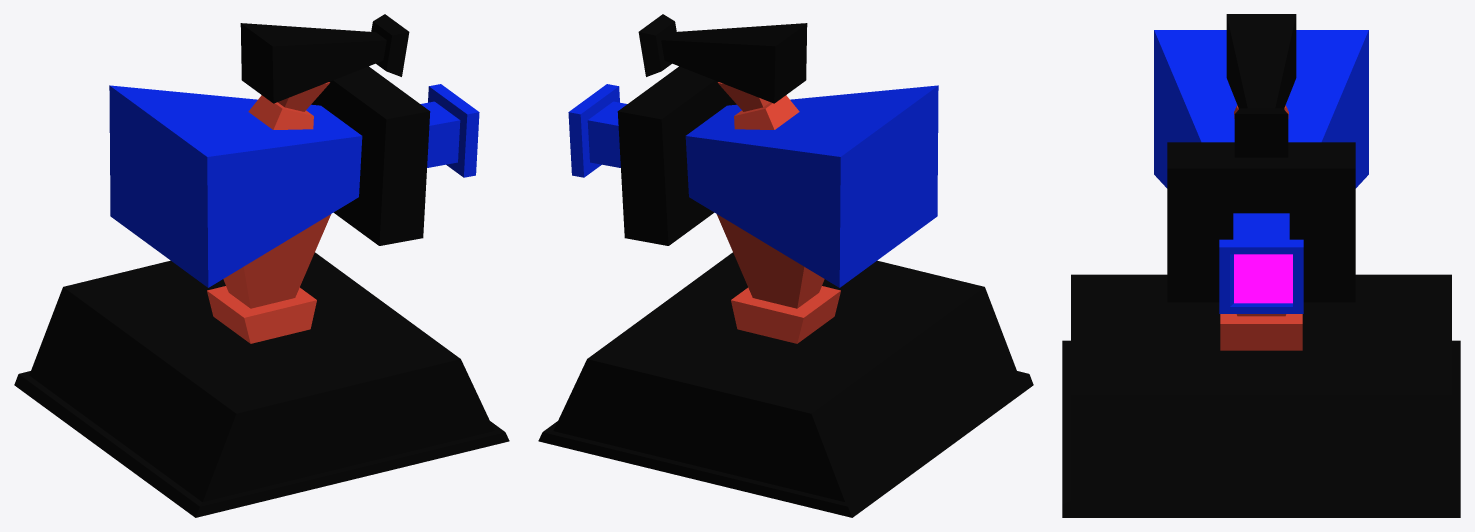
File: Tourelle.fbx
3 views of the same model, side by side, from view 1: azimuth 30°, elevation 25°; view 2: azimuth 150°, elevation 25°; view 3: azimuth 270°, elevation 25° (orthographic). The views are drawn at different scales.
Visible parts, largest first — view 1: Tourelle, Cube.031, Cube.033, Cube.030, Cube.032; view 2: Tourelle, Cube.031, Cube.033, Cube.030, Cube.032; view 3: Tourelle, Cube.031, Cube.033, Cube.030.
Boxes of the visible parts, x1=… form: Tourelle: x1=14, y1=252, x2=509, y2=517; Cube.031: x1=109, y1=66, x2=479, y2=287; Cube.033: x1=240, y1=14, x2=409, y2=103; Cube.030: x1=207, y1=214, x2=331, y2=343; Cube.032: x1=248, y1=82, x2=329, y2=129; Tourelle: x1=538, y1=252, x2=1033, y2=517; Cube.031: x1=568, y1=66, x2=938, y2=287; Cube.033: x1=638, y1=14, x2=807, y2=103; Cube.030: x1=716, y1=214, x2=840, y2=343; Cube.032: x1=718, y1=82, x2=799, y2=129; Tourelle: x1=1062, y1=274, x2=1460, y2=517; Cube.031: x1=1154, y1=30, x2=1368, y2=313; Cube.033: x1=1226, y1=14, x2=1296, y2=157; Cube.030: x1=1220, y1=314, x2=1302, y2=350.
Bounding box in the file's own units: 750 × 766 × 663.
